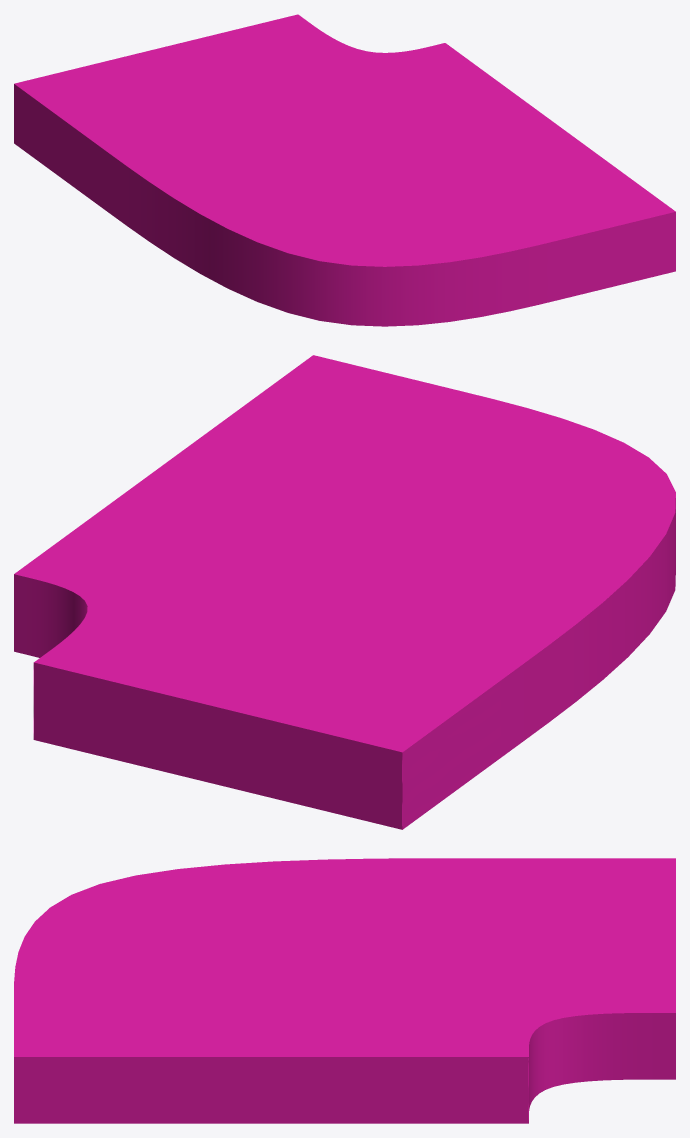
The model's file is Uneven Rounded corner.fbx.
The picture shows the model from 3 angles, top to bottom: view 1: azimuth 30°, elevation 25°; view 2: azimuth 150°, elevation 25°; view 3: azimuth 270°, elevation 25°; orthographic projection. The views are drawn at different scales.
Parts seen in each view (by area): view 1: Plane.003; view 2: Plane.003; view 3: Plane.003.
Part boxes in pixels (x1=…): Plane.003: x1=14, y1=14, x2=675, y2=326; Plane.003: x1=14, y1=355, x2=675, y2=829; Plane.003: x1=14, y1=858, x2=675, y2=1123.
Size of the model in its own units: 640 by 100 by 900.
